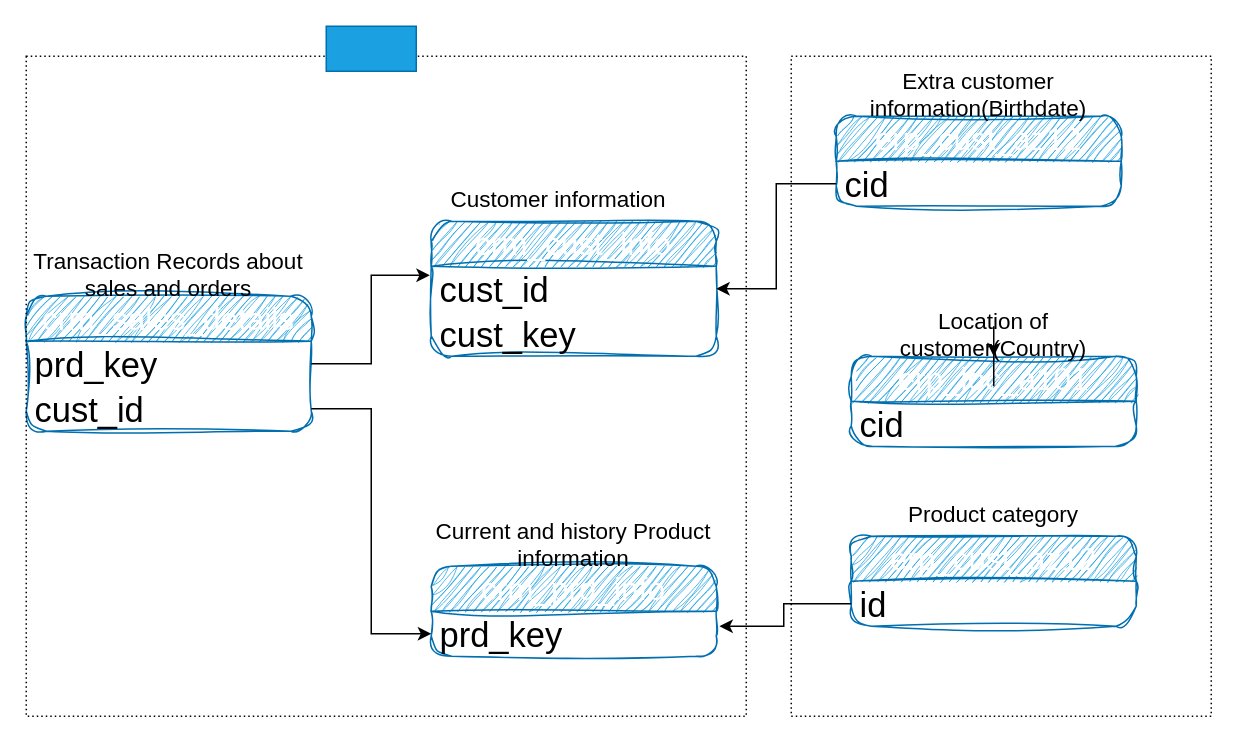
This 1238x743 diagram has some shape labels left out. Each missing label, with the centre of its shape:
CRM: [370,48]
ERP: [1015,48]
